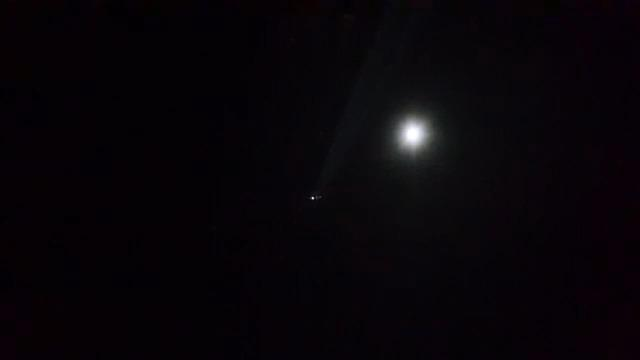Plane: (306, 140, 342, 208)
